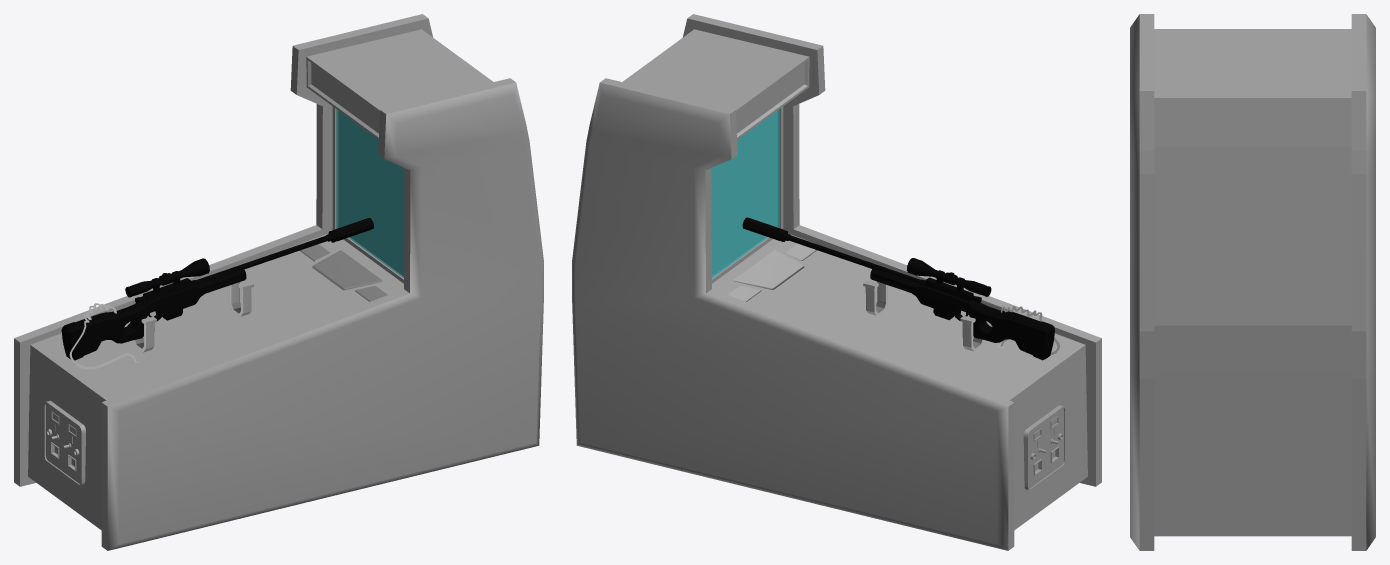
Rendered from Outdoor Shooting.fbx.
The picture shows the model from 3 angles, left to right: view 1: azimuth 30°, elevation 25°; view 2: azimuth 150°, elevation 25°; view 3: azimuth 270°, elevation 25°; orthographic projection. The views are drawn at different scales.
Visible parts, largest first — view 1: OutdoorGun_Machine, body, scope; view 2: OutdoorGun_Machine, body, scope; view 3: OutdoorGun_Machine.
Part boxes in pixels (x1,y1,x2,y2): OutdoorGun_Machine: [14, 14, 543, 550]; body: [61, 235, 328, 360]; scope: [125, 258, 209, 297]; OutdoorGun_Machine: [572, 14, 1101, 550]; body: [787, 235, 1054, 360]; scope: [907, 258, 991, 296]; OutdoorGun_Machine: [1130, 14, 1375, 550].
Size of the model in its own units: 2.84 by 2.29 by 1.14.
